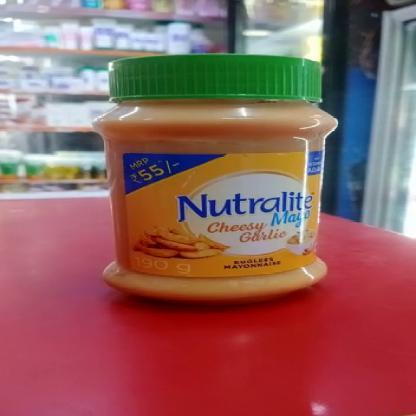Nutralite CHEESY GARLIC MAYO 300g-275g-25g-: (110, 60, 322, 284), (319, 312, 320, 317)
